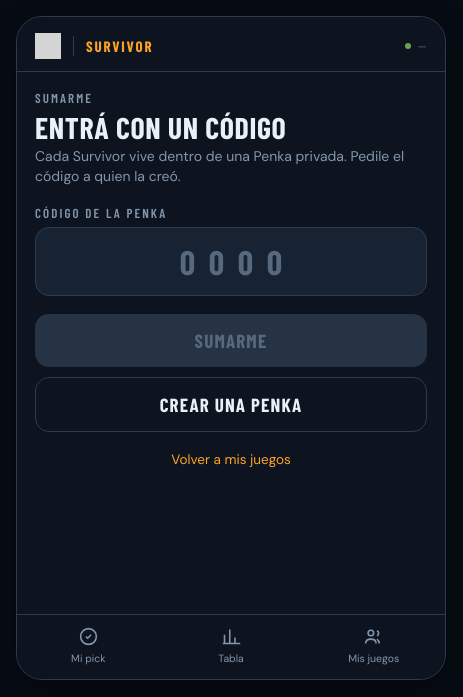
Test: JoinPenkaView › keeps the player on the form when the code is refused
The width and height of the screenshot is (463, 697).
Type "9999" into the field labelled "Código de la penka" at (231, 261), box [35,227,427,296]
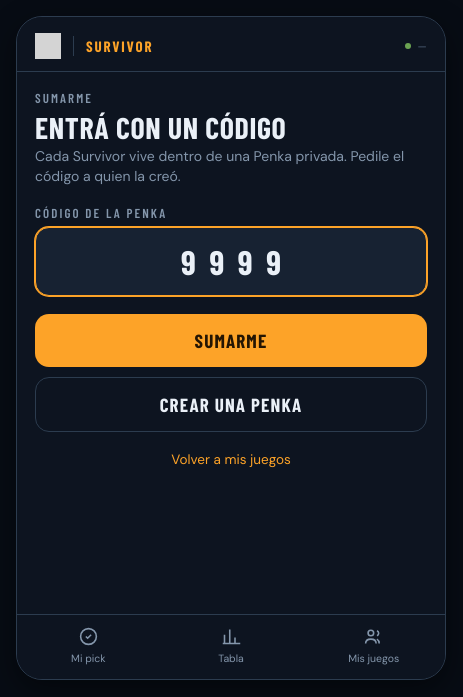
Click the button "Sumarme" at (231, 340), box [35,314,427,367]
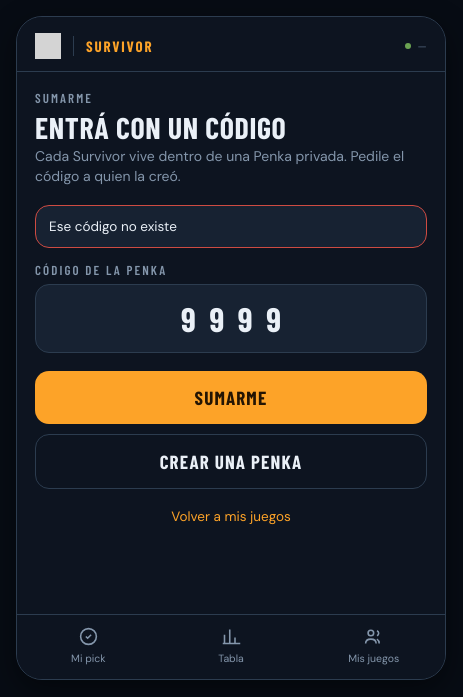
Result: the message "Ese código no existe" is shown at [35,205,427,248]
